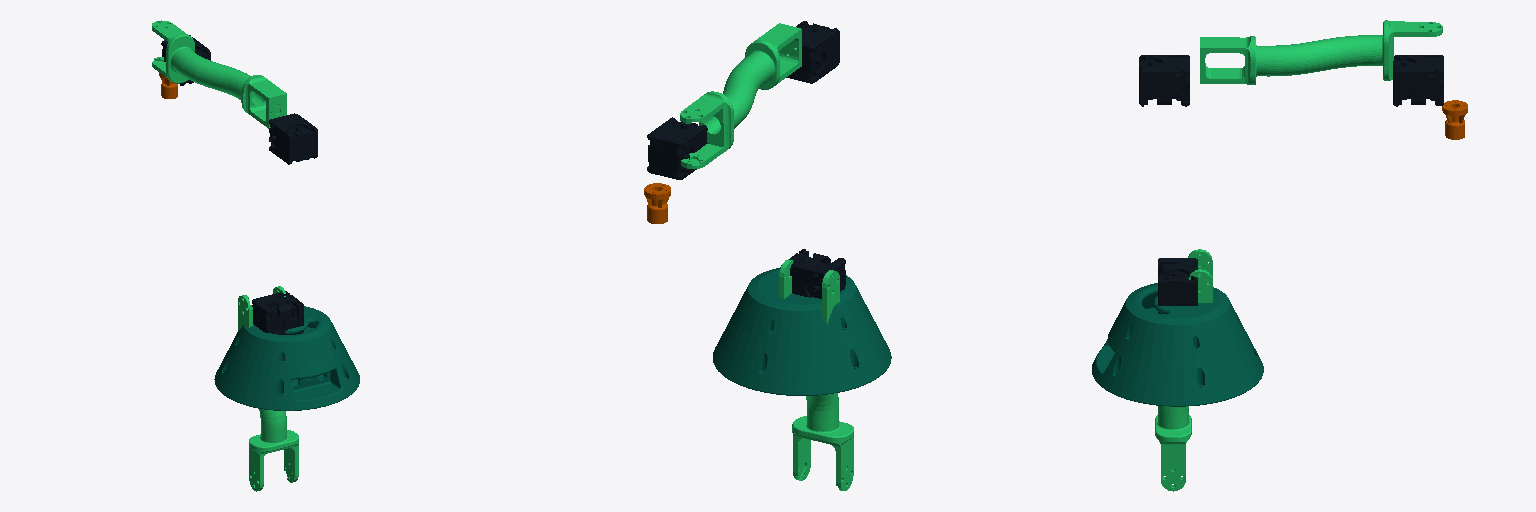
URDF robot description (manipulator_without_gripper):
<?xml version="1.0" encoding="utf-8"?>
<!-- This URDF was automatically created by SolidWorks to URDF Exporter! Originally created by [author] ([email redacted]) 
     Commit Version: 1.6.0-4-g7f85cfe  Build Version: 1.6.7995.38578
     For more information, please see http://wiki.ros.org/sw_urdf_exporter -->
<robot
  name="manipulator_without_gripper">
  <link
    name="base_link">
    <inertial>
      <origin
        xyz="5.34102915090208E-06 0.00149611119634719 0.027324411040906"
        rpy="0 0 0" />
      <mass
        value="0.399055600639488" />
      <inertia
        ixx="0.000594407764139081"
        ixy="1.1064454711189E-07"
        ixz="8.9739729973553E-09"
        iyy="0.000627271304371282"
        iyz="-7.29958201544485E-06"
        izz="0.00113695220568938" />
    </inertial>
    <visual>
      <origin
        xyz="0 0 0"
        rpy="0 0 0" />
      <geometry>
        <mesh
          filename="package://manipulator_description/meshes/base_link.STL" />
      </geometry>
      <material
        name="">
        <color
          rgba="0.0549 0.4 0.3333 1.0"/>
      </material>
    </visual>
    <collision>
      <origin
        xyz="0 0 0"
        rpy="0 0 0" />
      <geometry>
        <mesh
          filename="package://manipulator_description/meshes/base_link.STL" />
      </geometry>
    </collision>
  </link>
  <link
    name="link_1">
    <inertial>
      <origin
        xyz="0.000495971250250977 -0.0119998499605218 0.0192958783777655"
        rpy="0 0 0" />
      <mass
        value="0.0569176277607128" />
      <inertia
        ixx="1.43924882902027E-05"
        ixy="5.8212029443598E-10"
        ixz="3.4400350775282E-07"
        iyy="1.02302735970703E-05"
        iyz="-7.69441167803741E-10"
        izz="1.43925048825667E-05" />
    </inertial>
    <visual>
      <origin
        xyz="0 0 0"
        rpy="0 0 0" />
      <geometry>
        <mesh
          filename="package://manipulator_description/meshes/link_1.STL" />
      </geometry>
      <material
        name="">
        <color
          rgba="0.09019 0.12549 0.164706 1.0"/>
      </material>
    </visual>
    <collision>
      <origin
        xyz="0 0 0"
        rpy="0 0 0" />
      <geometry>
        <mesh
          filename="package://manipulator_description/meshes/link_1.STL" />
      </geometry>
    </collision>
  </link>
  <joint
    name="joint_1"
    type="revolute">
    <origin
      xyz="0 0 0.07"
      rpy="0 0 3.14159265358979" />
    <parent
      link="base_link" />
    <child
      link="link_1" />
    <axis
      xyz="0 0 1" />
    <limit
      lower="0"
      upper="3.14"
      effort="0"
      velocity="0" />
  </joint>
  <link
    name="link_2">
    <inertial>
      <origin
        xyz="-0.00775223885247785 0.0986651693444382 3.09623365034016E-07"
        rpy="0 0 0" />
      <mass
        value="0.102283747087815" />
      <inertia
        ixx="0.000324874196102824"
        ixy="5.73246689425899E-05"
        ixz="5.45918906914281E-12"
        iyy="4.21097504903959E-05"
        iyz="-1.01732171356661E-09"
        izz="0.000321802212764245" />
    </inertial>
    <visual>
      <origin
        xyz="0 0 0"
        rpy="0 0 0" />
      <geometry>
        <mesh
          filename="package://manipulator_description/meshes/link_2.STL" />
      </geometry>
      <material
        name="">
        <color
          rgba="0.1804 0.8 0.4431 1.0"/>
      </material>
    </visual>
    <collision>
      <origin
        xyz="0 0 0"
        rpy="0 0 0" />
      <geometry>
        <mesh
          filename="package://manipulator_description/meshes/link_2.STL" />
      </geometry>
    </collision>
  </link>
  <joint
    name="joint_2"
    type="revolute">
    <origin
      xyz="0 -0.02 0.02"
      rpy="1.5707963267949 0 -1.5707963267949" />
    <parent
      link="link_1" />
    <child
      link="link_2" />
    <axis
      xyz="0 0 1" />
    <limit
      lower="0"
      upper="3.14"
      effort="0"
      velocity="0" />
  </joint>
  <link
    name="link_3">
    <inertial>
      <origin
        xyz="0.00579985031859209 0.00049597140269868 0.000495878377765528"
        rpy="0 0 0" />
      <mass
        value="0.0569176277607128" />
      <inertia
        ixx="1.02302735970703E-05"
        ixy="-5.8212029443346E-10"
        ixz="7.69441167804177E-10"
        iyy="1.43924882902027E-05"
        iyz="3.44003507752819E-07"
        izz="1.43925048825667E-05" />
    </inertial>
    <visual>
      <origin
        xyz="0 0 0"
        rpy="0 0 0" />
      <geometry>
        <mesh
          filename="package://manipulator_description/meshes/link_3.STL" />
      </geometry>
      <material
        name="">
        <color
          rgba="0.09019 0.12549 0.164706 1.0"/>
      </material>
    </visual>
    <collision>
      <origin
        xyz="0 0 0"
        rpy="0 0 0" />
      <geometry>
        <mesh
          filename="package://manipulator_description/meshes/link_3.STL" />
      </geometry>
    </collision>
  </link>
  <joint
    name="joint_3"
    type="revolute">
    <origin
      xyz="-0.02 0.2 0"
      rpy="0 0 1.5707963267949" />
    <parent
      link="link_2" />
    <child
      link="link_3" />
    <axis
      xyz="0 0 1" />
    <limit
      lower="0"
      upper="3.14"
      effort="0"
      velocity="0" />
  </joint>
  <link
    name="link_4">
    <inertial>
      <origin
        xyz="-0.0140962967782675 4.3316564722483E-07 0.105115025906125"
        rpy="0 0 0" />
      <mass
        value="0.105070462984835" />
      <inertia
        ixx="0.000389981365707822"
        ixy="-2.10320734829657E-10"
        ixz="6.30292189438459E-05"
        iyy="0.000391756095860733"
        iyz="9.03524468093685E-10"
        izz="3.63349359947086E-05" />
    </inertial>
    <visual>
      <origin
        xyz="0 0 0"
        rpy="0 0 0" />
      <geometry>
        <mesh
          filename="package://manipulator_description/meshes/link_4.STL" />
      </geometry>
      <material
        name="">
        <color
          rgba="0.1804 0.8 0.4431 1.0"/>
      </material>
    </visual>
    <collision>
      <origin
        xyz="0 0 0"
        rpy="0 0 0" />
      <geometry>
        <mesh
          filename="package://manipulator_description/meshes/link_4.STL" />
      </geometry>
    </collision>
  </link>
  <joint
    name="joint_4"
    type="revolute">
    <origin
      xyz="0.02 -0.02 0"
      rpy="1.5708 0 0" />
    <parent
      link="link_3" />
    <child
      link="link_4" />
    <axis
      xyz="0 0 1" />
    <limit
      lower="0"
      upper="0"
      effort="3.14"
      velocity="0" />
  </joint>
  <link
    name="link_5">
    <inertial>
      <origin
        xyz="-0.00570412111171631 -0.00950015024510054 0.000495971250250972"
        rpy="0 0 0" />
      <mass
        value="0.0569176277607128" />
      <inertia
        ixx="1.43925048825667E-05"
        ixy="7.69441167793856E-10"
        ixz="3.44003507752818E-07"
        iyy="1.02302735970703E-05"
        iyz="-5.82120294434191E-10"
        izz="1.43924882902027E-05" />
    </inertial>
    <visual>
      <origin
        xyz="0 0 0"
        rpy="0 0 0" />
      <geometry>
        <mesh
          filename="package://manipulator_description/meshes/link_5.STL" />
      </geometry>
      <material
        name="">
        <color
          rgba="0.09019 0.12549 0.164706 1.0"/>
      </material>
    </visual>
    <collision>
      <origin
        xyz="0 0 0"
        rpy="0 0 0" />
      <geometry>
        <mesh
          filename="package://manipulator_description/meshes/link_5.STL" />
      </geometry>
    </collision>
  </link>
  <joint
    name="joint_5"
    type="revolute">
    <origin
      xyz="-0.02 0 0.21"
      rpy="-1.5708 0 0" />
    <parent
      link="link_4" />
    <child
      link="link_5" />
    <axis
      xyz="0 0 1" />
    <limit
      lower="0"
      upper="3.14"
      effort="0"
      velocity="0" />
  </joint>
  <link
    name="link_6">
    <inertial>
      <origin
        xyz="0.00150031581679505 1.12647433023364E-07 -0.00311135220148784"
        rpy="0 0 0" />
      <mass
        value="0.00645822149439777" />
      <inertia
        ixx="6.51155688953516E-07"
        ixy="-7.61605742280883E-12"
        ixz="2.21514473144782E-11"
        iyy="6.51149469280369E-07"
        iyz="1.82035089965422E-12"
        izz="3.60669281322455E-07" />
    </inertial>
    <visual>
      <origin
        xyz="0 0 0"
        rpy="0 0 0" />
      <geometry>
        <mesh
          filename="package://manipulator_description/meshes/link_62.STL" />
      </geometry>
      <material
        name="">
        <color
          rgba="0.729411764705882 0.356862745098039 0.0235294117647059 1" />
      </material>
    </visual>
    <collision>
      <origin
        xyz="0 0 0"
        rpy="0 0 0" />
      <geometry>
        <mesh
          filename="package://manipulator_description/meshes/link_62.STL" />
      </geometry>
    </collision>
  </link>
  <joint
    name="joint_6"
    type="revolute">
    <origin
      xyz="-0.04 -0.02 0"
      rpy="1.5708 0 -1.5708" />
    <parent
      link="link_5" />
    <child
      link="link_6" />
    <axis
      xyz="0 0 1" />
    <limit
      lower="0"
      upper="3.14"
      effort="0"
      velocity="0" />
  </joint>
</robot>

--- What the picture shows (computed from the rendered views, not written in the file) ---
Views: 3 orthographic renders of the robot side by side, from view 1: azimuth 30°, elevation 25°; view 2: azimuth 150°, elevation 25°; view 3: azimuth 270°, elevation 25°.
Model manipulator_without_gripper with 7 links and 6 joints (6 revolute), rooted at base_link, posed every joint at zero.
Links seen in each view (by area): view 1: base_link, link_4, link_2, link_3, link_1; view 2: base_link, link_4, link_2, link_5, link_3, link_1, link_6; view 3: base_link, link_4, link_2, link_3, link_5, link_1, link_6.
Boxes of the visible links, x1=… form: base_link: x1=214, y1=306, x2=359, y2=410; link_4: x1=152, y1=20, x2=286, y2=128; link_2: x1=238, y1=286, x2=298, y2=491; link_3: x1=269, y1=113, x2=317, y2=164; link_1: x1=252, y1=291, x2=303, y2=334; base_link: x1=713, y1=267, x2=891, y2=395; link_4: x1=680, y1=23, x2=801, y2=168; link_2: x1=779, y1=259, x2=853, y2=490; link_5: x1=647, y1=117, x2=707, y2=179; link_3: x1=786, y1=21, x2=839, y2=83; link_1: x1=781, y1=249, x2=845, y2=298; link_6: x1=644, y1=183, x2=670, y2=223; base_link: x1=1092, y1=283, x2=1263, y2=406; link_4: x1=1200, y1=20, x2=1442, y2=84; link_2: x1=1155, y1=249, x2=1212, y2=491; link_3: x1=1139, y1=55, x2=1189, y2=106; link_5: x1=1393, y1=55, x2=1443, y2=106; link_1: x1=1158, y1=258, x2=1197, y2=313; link_6: x1=1442, y1=100, x2=1467, y2=139.
Size in the robot's own frame: 0.1559 by 0.3413 by 0.4557 metres.
7 mesh visuals loaded from 7 distinct referenced files (7 binary STL).